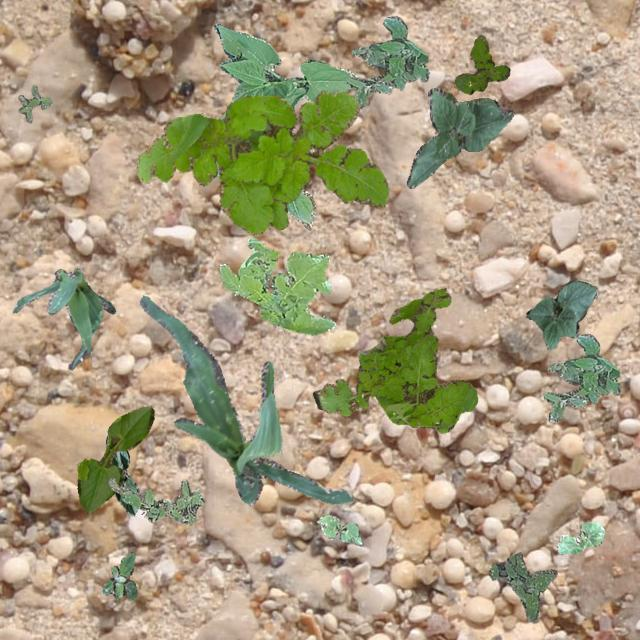crop: (138, 294, 354, 503), (212, 22, 356, 228), (406, 86, 512, 188), (11, 268, 114, 368), (76, 406, 152, 512), (526, 280, 596, 348), (105, 432, 137, 514), (556, 522, 602, 554), (316, 514, 362, 544)
weed: (136, 90, 388, 234), (312, 286, 476, 432), (218, 236, 334, 334), (346, 16, 426, 108), (542, 332, 620, 422), (488, 550, 556, 620), (108, 476, 204, 524), (454, 34, 508, 94), (100, 550, 136, 598), (18, 84, 52, 122)
